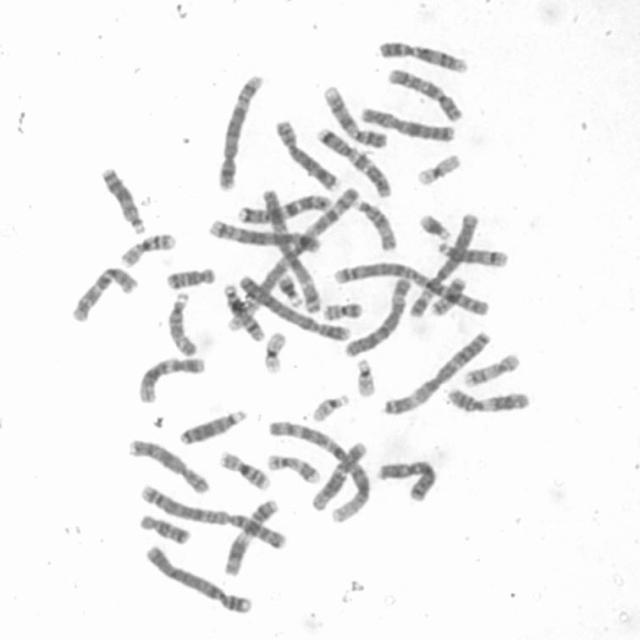A1: (225, 185, 359, 333), (265, 420, 372, 524)
A2: (139, 482, 288, 550), (332, 262, 492, 318)
A3: (381, 329, 490, 418), (262, 189, 322, 314)
B4: (237, 273, 352, 343), (144, 542, 255, 614)
B5: (215, 71, 265, 192), (206, 217, 322, 254)
C10: (386, 67, 464, 123), (70, 265, 140, 325)
C11: (222, 499, 278, 577), (446, 388, 531, 414)
C12: (310, 441, 366, 511), (136, 358, 206, 404)
C6: (410, 212, 478, 319), (343, 278, 411, 359)
C7: (316, 126, 392, 200), (237, 194, 333, 227)
C8: (125, 437, 210, 495), (276, 120, 339, 192)
C9: (324, 83, 388, 148), (378, 39, 469, 75)
D13: (93, 165, 147, 235), (178, 408, 248, 446)
D14: (222, 283, 266, 344), (436, 241, 508, 269)
D15: (356, 200, 397, 253), (167, 292, 199, 359)
E16: (218, 452, 272, 492), (119, 232, 178, 268)
E17: (464, 351, 521, 388), (266, 452, 322, 485)
E18: (139, 514, 191, 546), (166, 265, 217, 292)
F19: (416, 152, 461, 187), (262, 328, 288, 374)
F20: (428, 276, 466, 318), (324, 301, 364, 323)
G21: (418, 213, 453, 240), (276, 275, 303, 308)
G22: (310, 392, 350, 423), (357, 358, 378, 398)
X: (362, 106, 456, 144), (377, 457, 439, 502)
